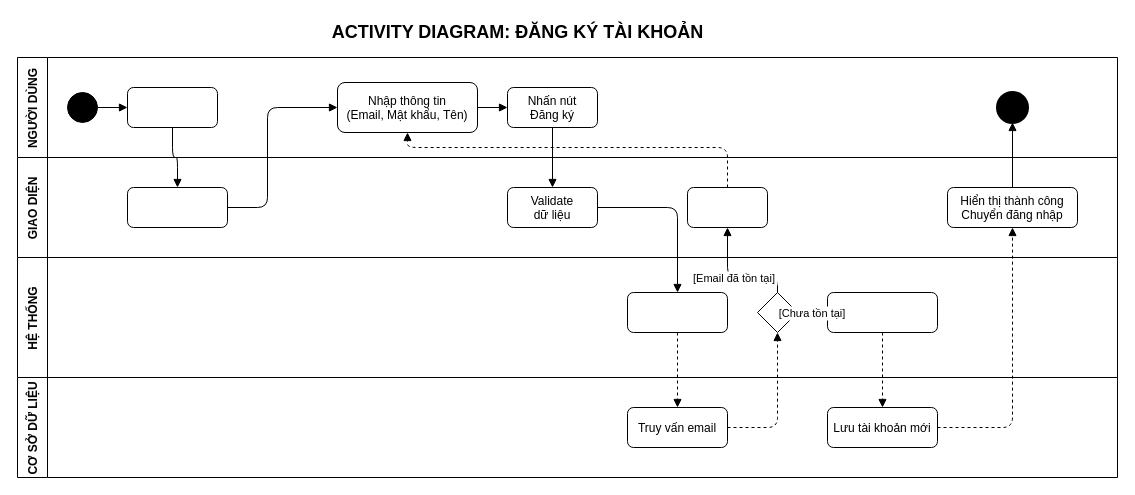
The diagram is 1135 pixels wide and 495 high, and some of its shapes have lost their labels. Here are the shapes that lost their labels. From the top down, the centre of each, then its label:
At (x=172, y=107): "Mở trang đăng ký".
At (x=177, y=207): "Hiển thị form đăng ký".
At (x=727, y=207): "Hiển thị lỗi".
At (x=677, y=312): "Kiểm tra email tồn tại".
At (x=882, y=312): "Mã hóa mật khẩu Tạo tài khoản".
